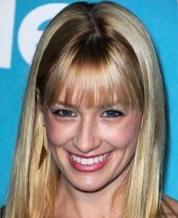face: (53, 104, 122, 174)
